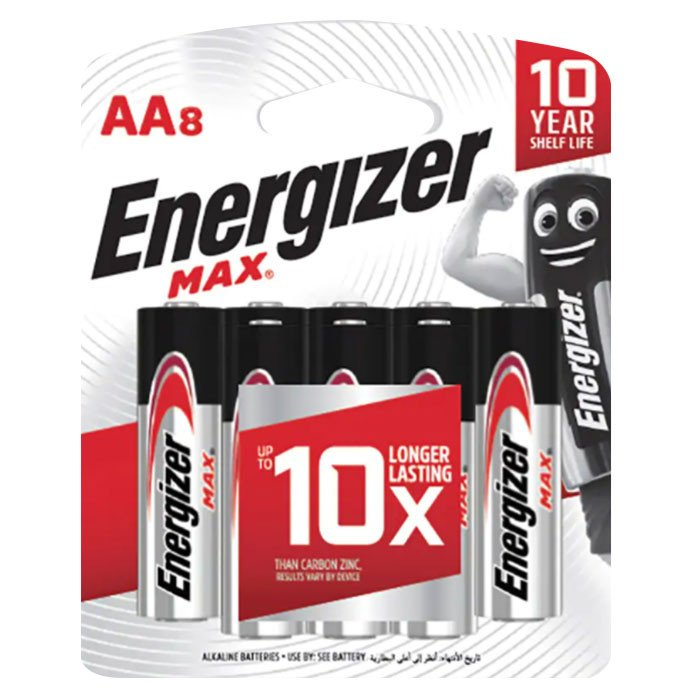Battery: (476, 299, 564, 628), (135, 300, 221, 625)
